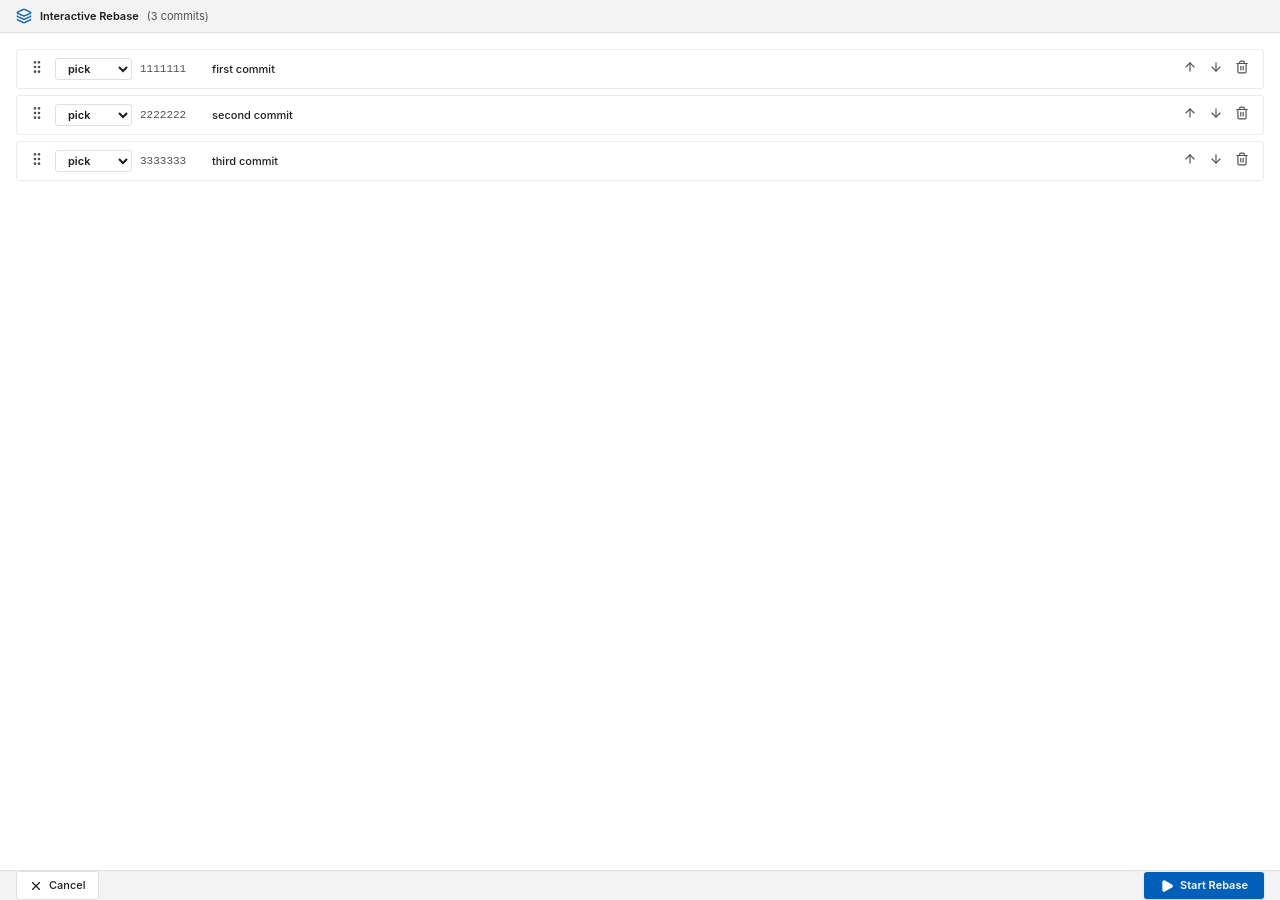
Test: InteractiveRebaseView Component › opens edit message dialog and saves new message
Note: Changing action to reword triggers EditMessageDialog
Select "reword" in the dropdown named "Action for commit 1111111" at (94, 69), box [55,58,132,80]
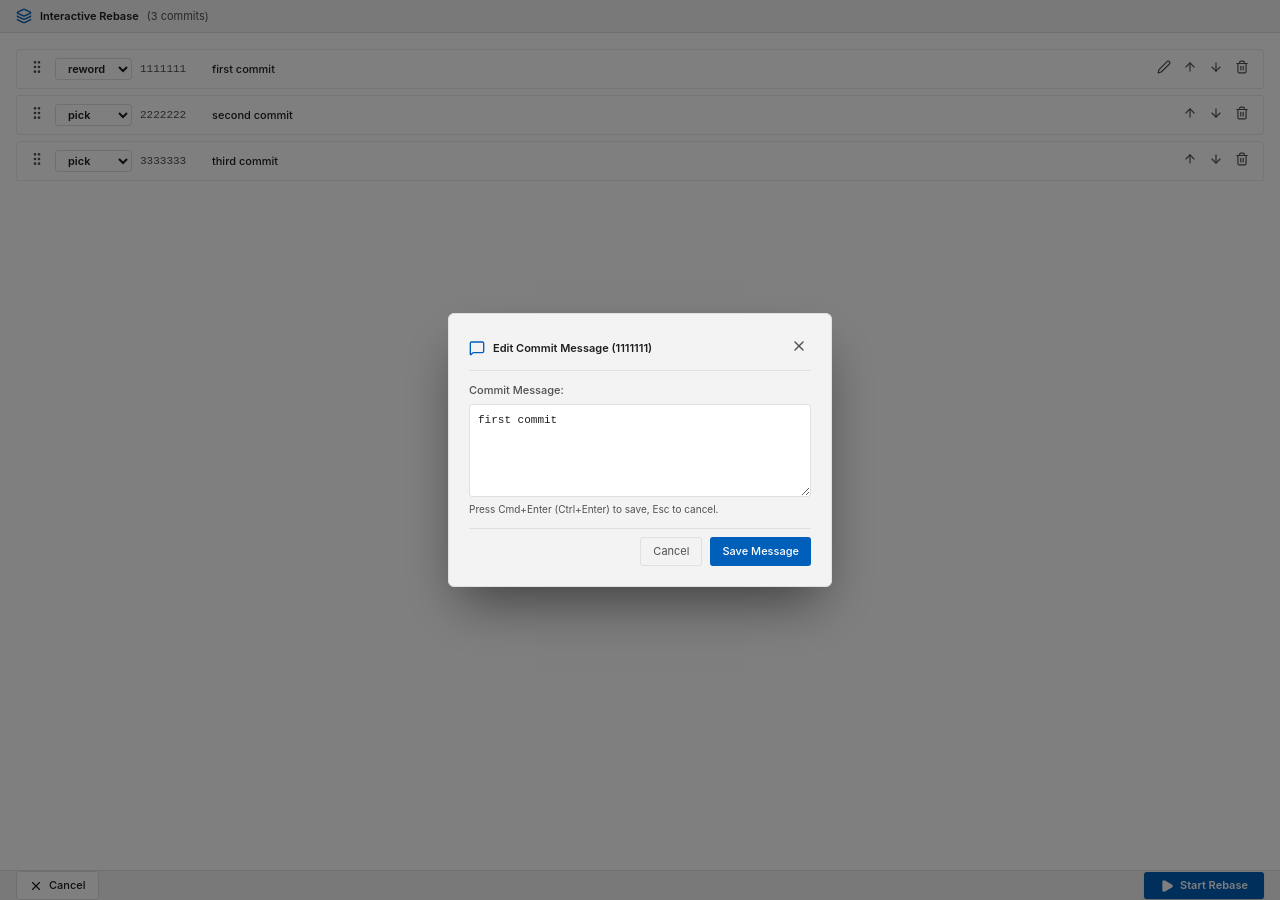
Expected: the text "Edit Commit Message (1111111)" is shown, [493,340,652,356]
Replace the text in the text box with placeholder "Enter commit message..." with "reworded first commit" at (640, 450), box [469,404,811,497]
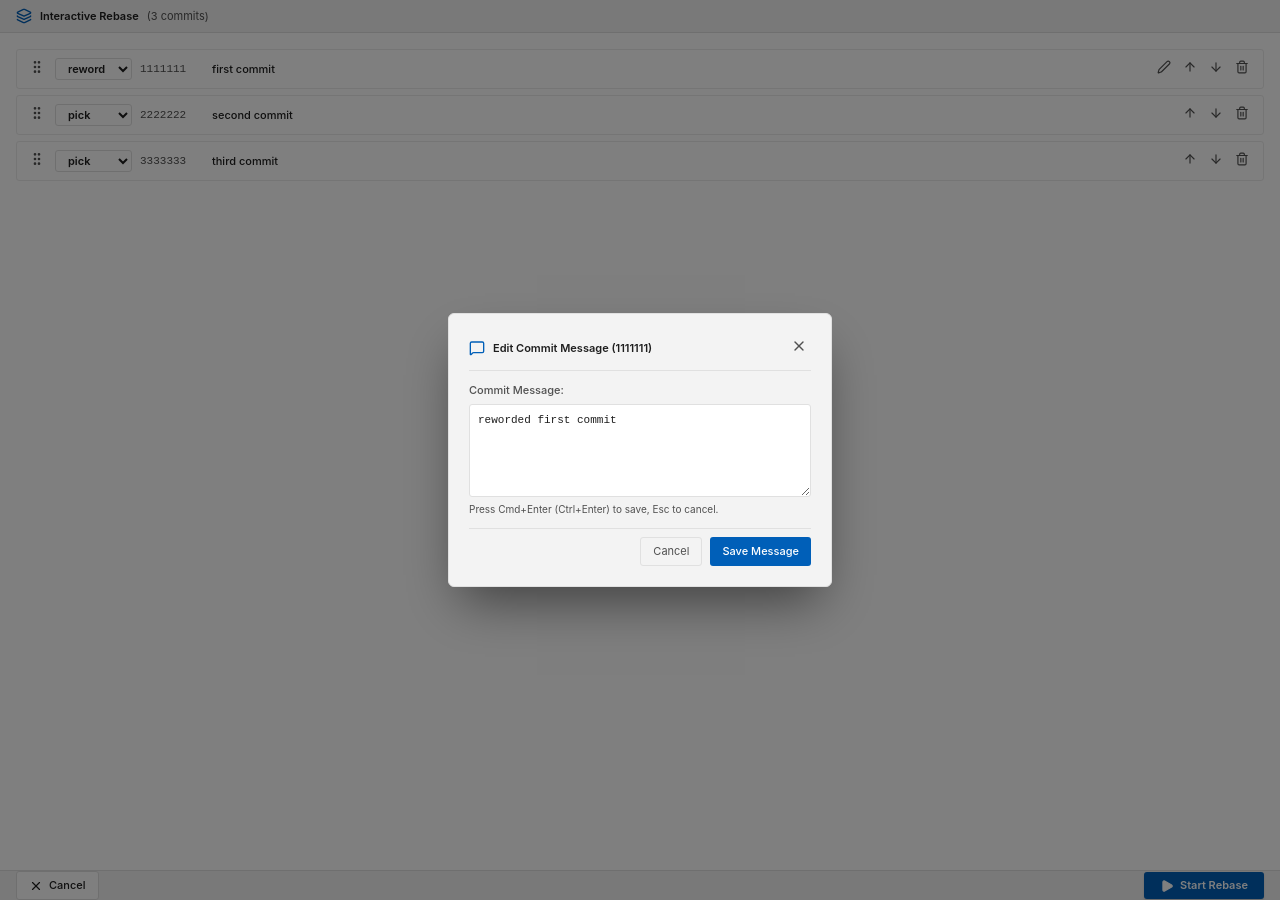
Click the button "Save Message" at (761, 552), box [710,537,811,566]
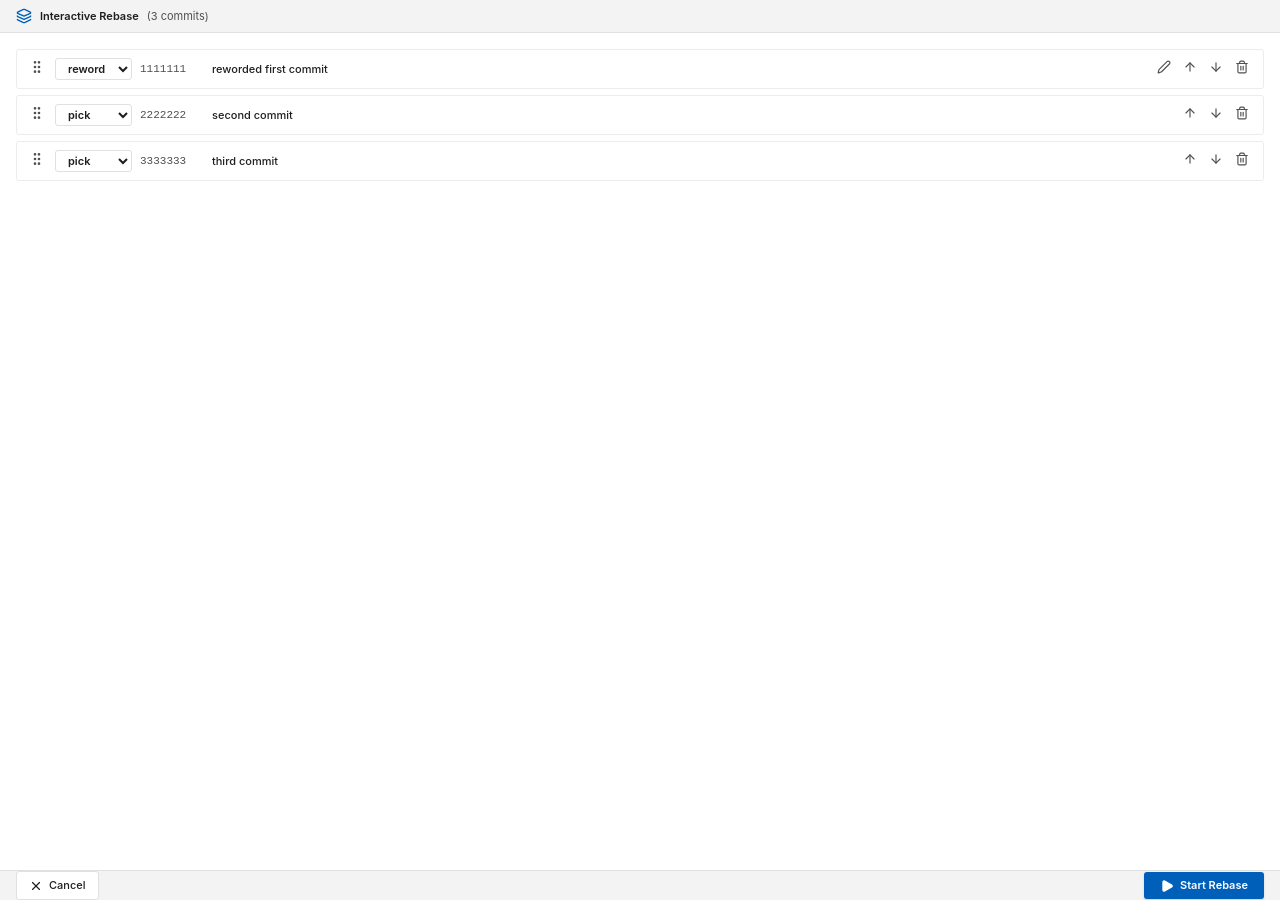
Expected: the text "Edit Commit Message" is gone
Expected: the text "reworded first commit" is shown, [212,62,328,76]
